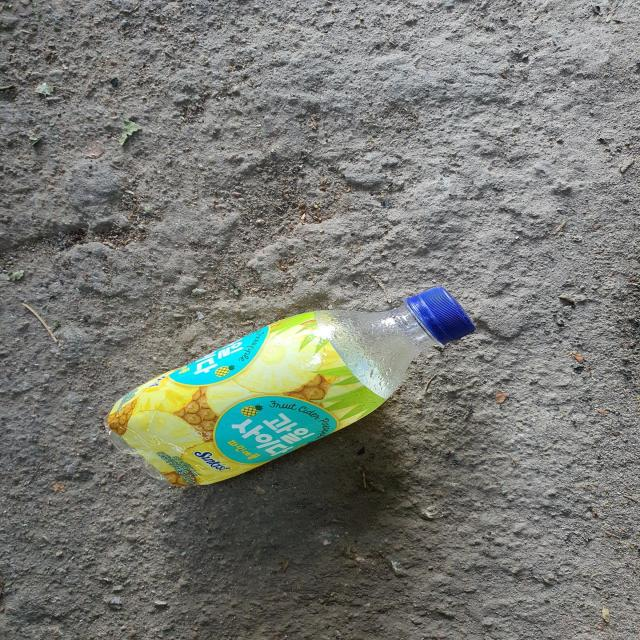plastic: (106, 287, 475, 486)
